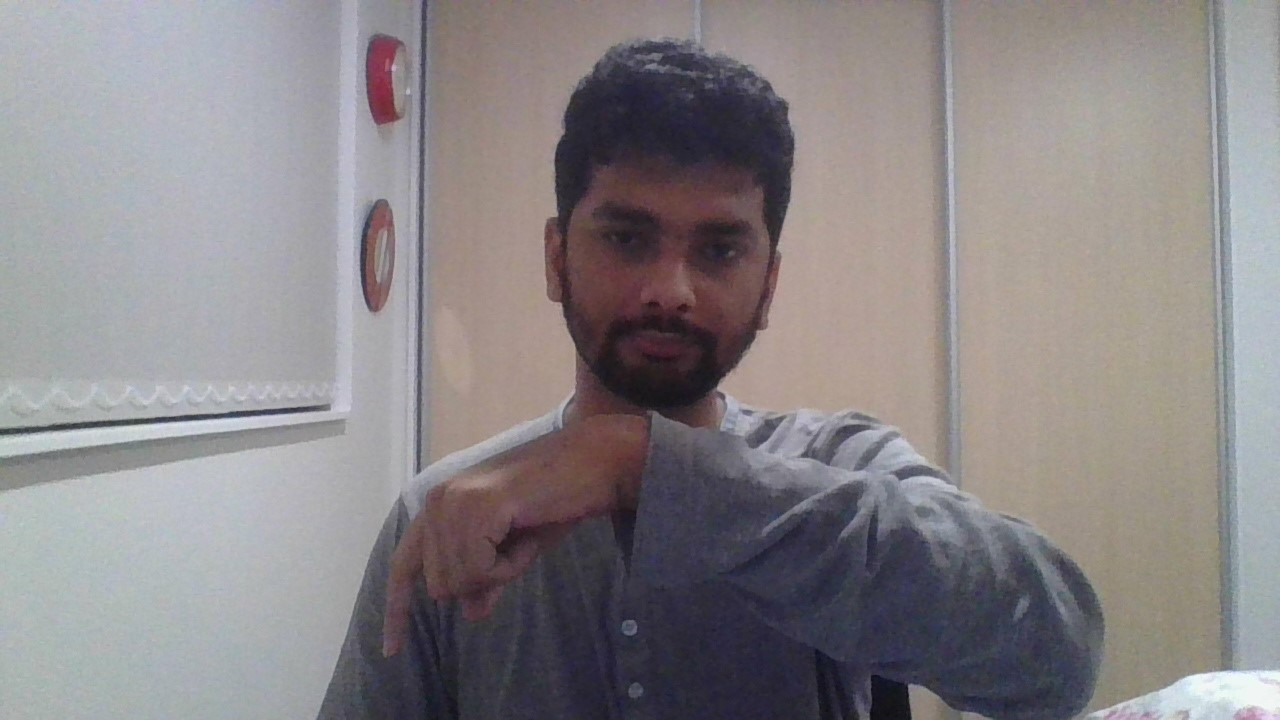below: (382, 414, 650, 659)
